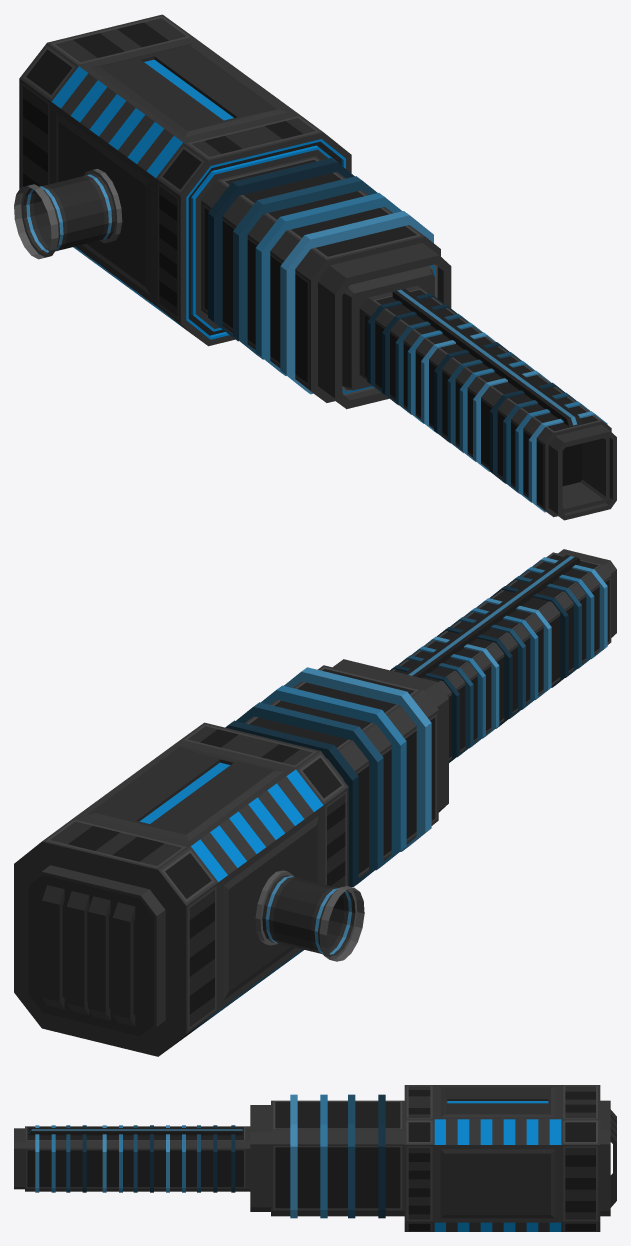
File: LTg.FBX
3 views of the same model, one above another, from view 1: azimuth 30°, elevation 25°; view 2: azimuth 150°, elevation 25°; view 3: azimuth 270°, elevation 25° (orthographic). The views are drawn at different scales.
Visible parts, largest first — view 1: LTg; view 2: LTg; view 3: LTg.
Boxes of the visible parts, x1=… form: LTg: x1=14, y1=14, x2=616, y2=520; LTg: x1=14, y1=549, x2=616, y2=1056; LTg: x1=14, y1=1085, x2=616, y2=1231.
Size of the model in its own units: 137 by 101 by 481.
